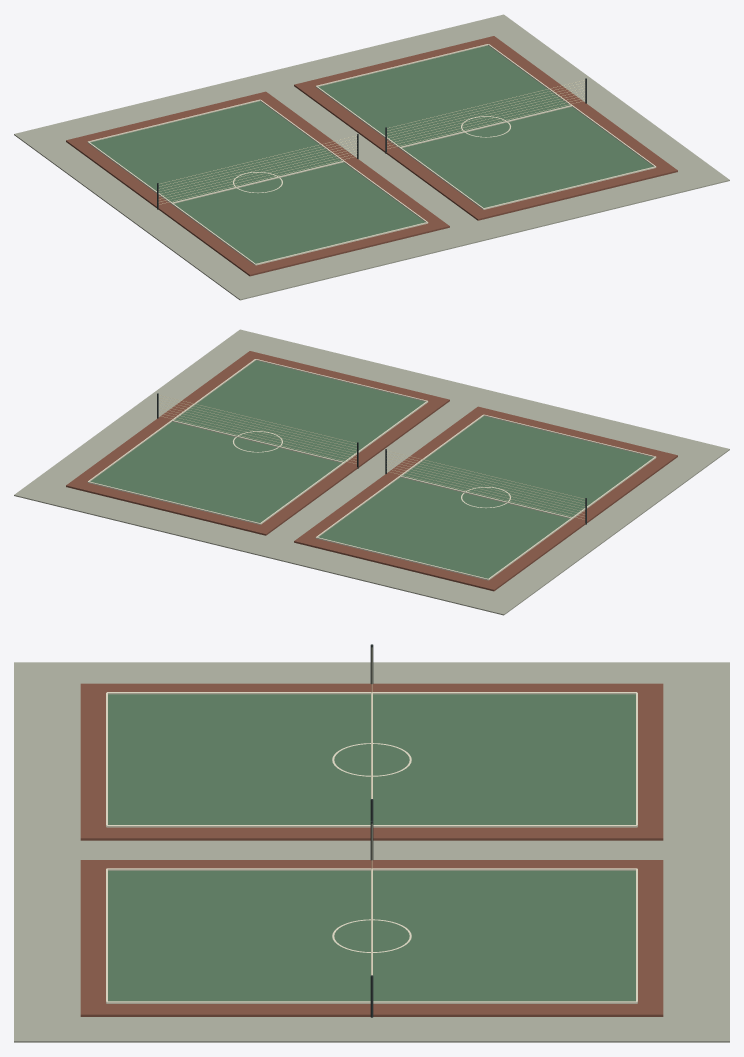
File: volley_B_east_s.glb
3 views of the same model, one above another, from view 1: azimuth 30°, elevation 25°; view 2: azimuth 150°, elevation 25°; view 3: azimuth 270°, elevation 25° (orthographic). The views are drawn at different scales.
Parts seen in each view (by area): view 1: PavedSurround, Court_2_CourtInfield, Court_1_CourtInfield, Court_1_CourtRed, Court_2_CourtRed, Court_1_CourtLines, Court_2_CourtLines, Court_1_NetMesh, Court_2_NetMesh; view 2: PavedSurround, Court_2_CourtInfield, Court_1_CourtInfield, Court_1_CourtRed, Court_2_CourtRed, Court_1_CourtLines, Court_2_CourtLines, Court_1_NetMesh, Court_2_NetMesh; view 3: PavedSurround, Court_2_CourtInfield, Court_1_CourtInfield, Court_1_CourtRed, Court_2_CourtRed, Court_1_CourtLines, Court_2_CourtLines.
Boxes of the visible parts, left/top/right/bottom form: PavedSurround: left=14, top=14, right=729, bottom=300; Court_2_CourtInfield: left=318, top=45, right=653, bottom=207; Court_1_CourtInfield: left=90, top=101, right=425, bottom=263; Court_1_CourtRed: left=66, top=91, right=449, bottom=276; Court_2_CourtRed: left=294, top=36, right=677, bottom=220; Court_1_CourtLines: left=87, top=99, right=428, bottom=265; Court_2_CourtLines: left=315, top=44, right=656, bottom=209; Court_1_NetMesh: left=159, top=135, right=356, bottom=204; Court_2_NetMesh: left=387, top=80, right=584, bottom=148; PavedSurround: left=14, top=329, right=729, bottom=615; Court_2_CourtInfield: left=90, top=360, right=425, bottom=522; Court_1_CourtInfield: left=318, top=416, right=653, bottom=578; Court_1_CourtRed: left=294, top=406, right=677, bottom=591; Court_2_CourtRed: left=66, top=351, right=449, bottom=535; Court_1_CourtLines: left=315, top=414, right=656, bottom=580; Court_2_CourtLines: left=87, top=359, right=428, bottom=524; Court_1_NetMesh: left=387, top=450, right=584, bottom=519; Court_2_NetMesh: left=159, top=395, right=356, bottom=463; PavedSurround: left=14, top=662, right=729, bottom=1042; Court_2_CourtInfield: left=108, top=870, right=635, bottom=1001; Court_1_CourtInfield: left=108, top=694, right=635, bottom=824; Court_1_CourtRed: left=80, top=683, right=663, bottom=840; Court_2_CourtRed: left=80, top=860, right=663, bottom=1016; Court_1_CourtLines: left=106, top=692, right=637, bottom=827; Court_2_CourtLines: left=106, top=868, right=637, bottom=1003.
Size of the model in its own units: 43.61 by 2.3 by 34.85.
